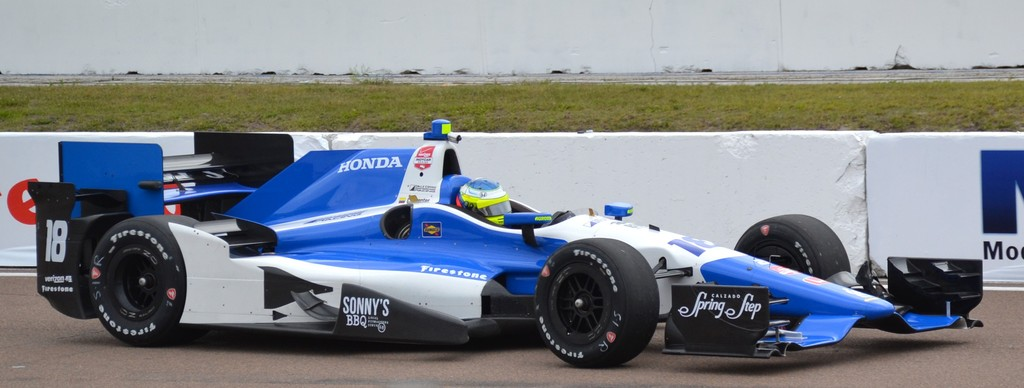Car: (0, 133, 976, 366)
